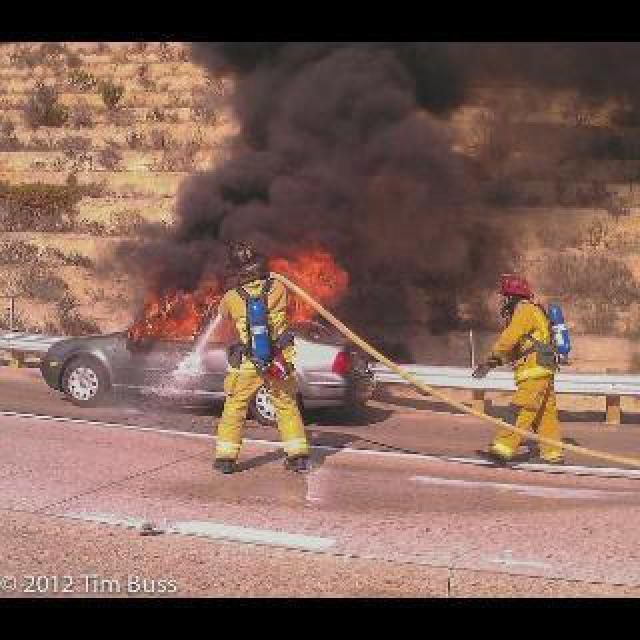Fire: (118, 240, 352, 350)
Smoke: (150, 40, 466, 316)
